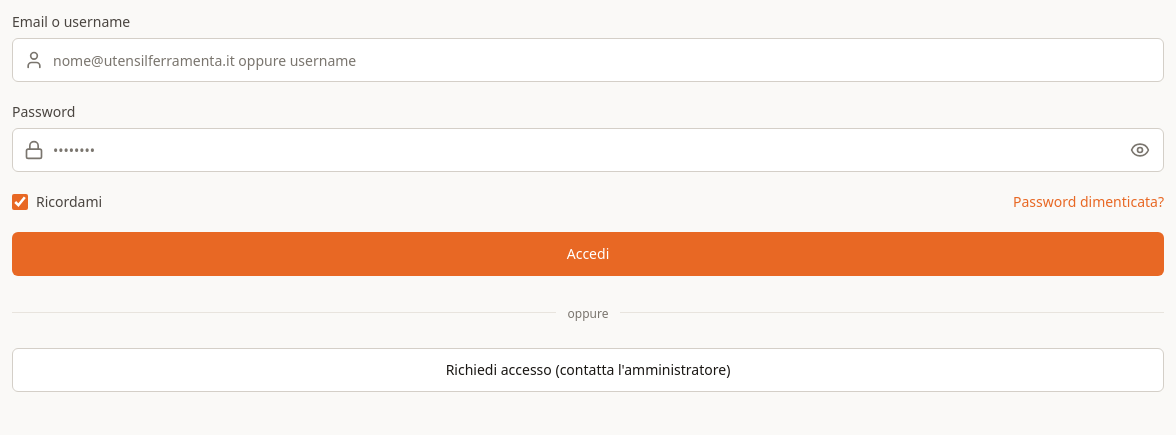
Test: LoginForm › blocks submit and shows a validation message for an empty identifier
The width and height of the screenshot is (1176, 435).
Type "password1" into the password field labelled "Password". click: x=588, y=150
box: x1=12 y1=128 x2=1164 y2=172
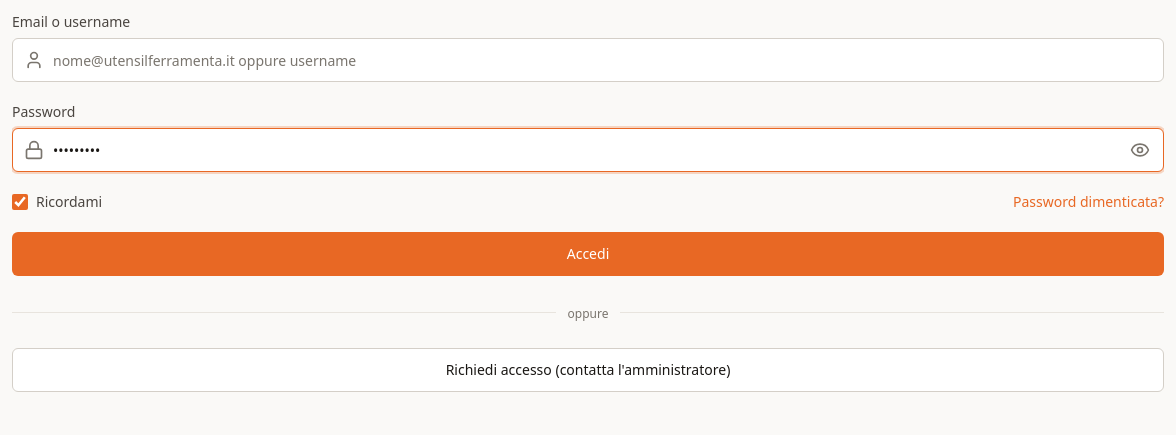
Click the button "Accedi". click: x=588, y=254
box: x1=12 y1=232 x2=1164 y2=276
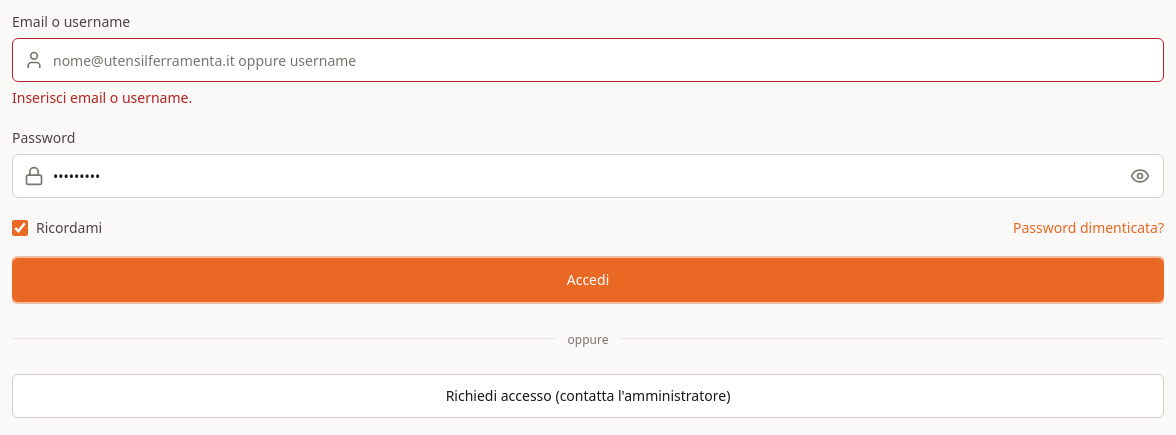
Expected: the text "Inserisci email o username." is shown, x1=12 y1=88 x2=192 y2=107
